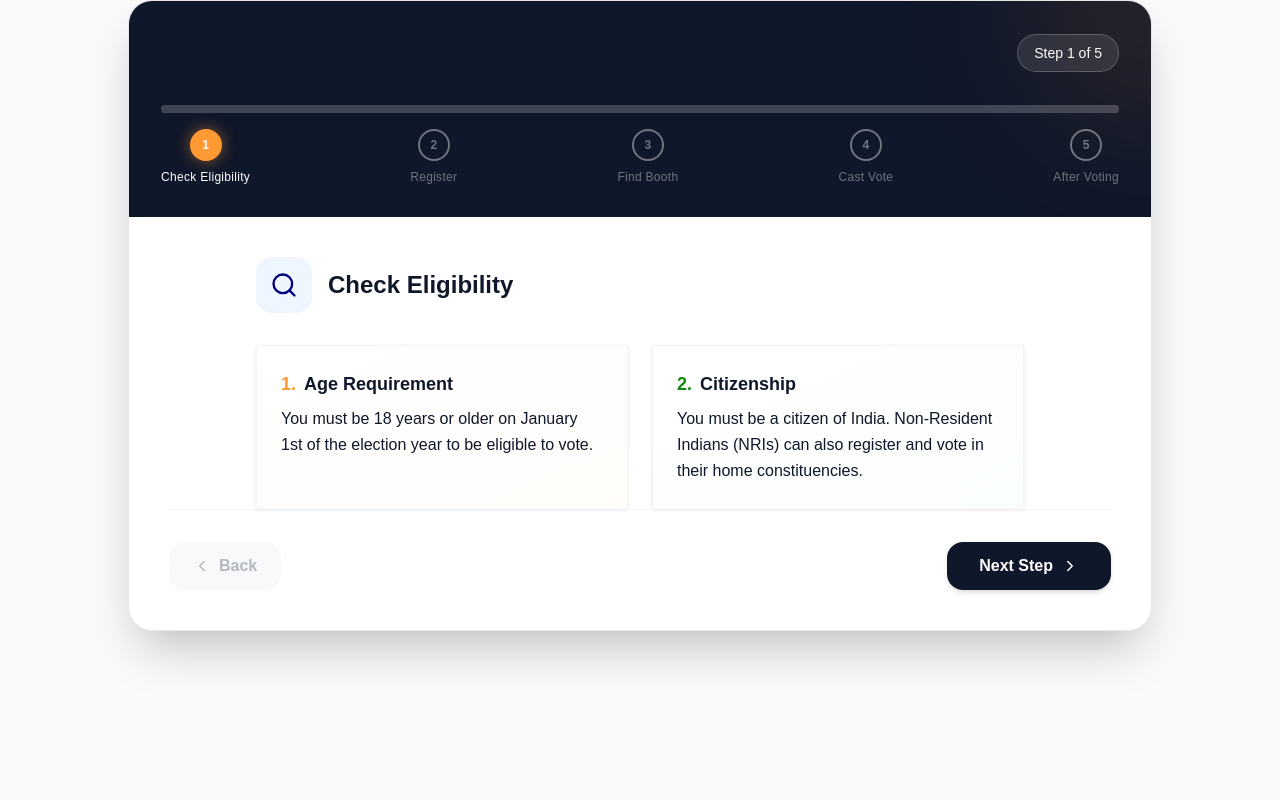
Simulator component › goes back to previous step when 'Previous' is clicked
The image size is (1280, 800).
Step 1. Click the button "Next Step" → (1029, 566), box [947, 542, 1111, 590]
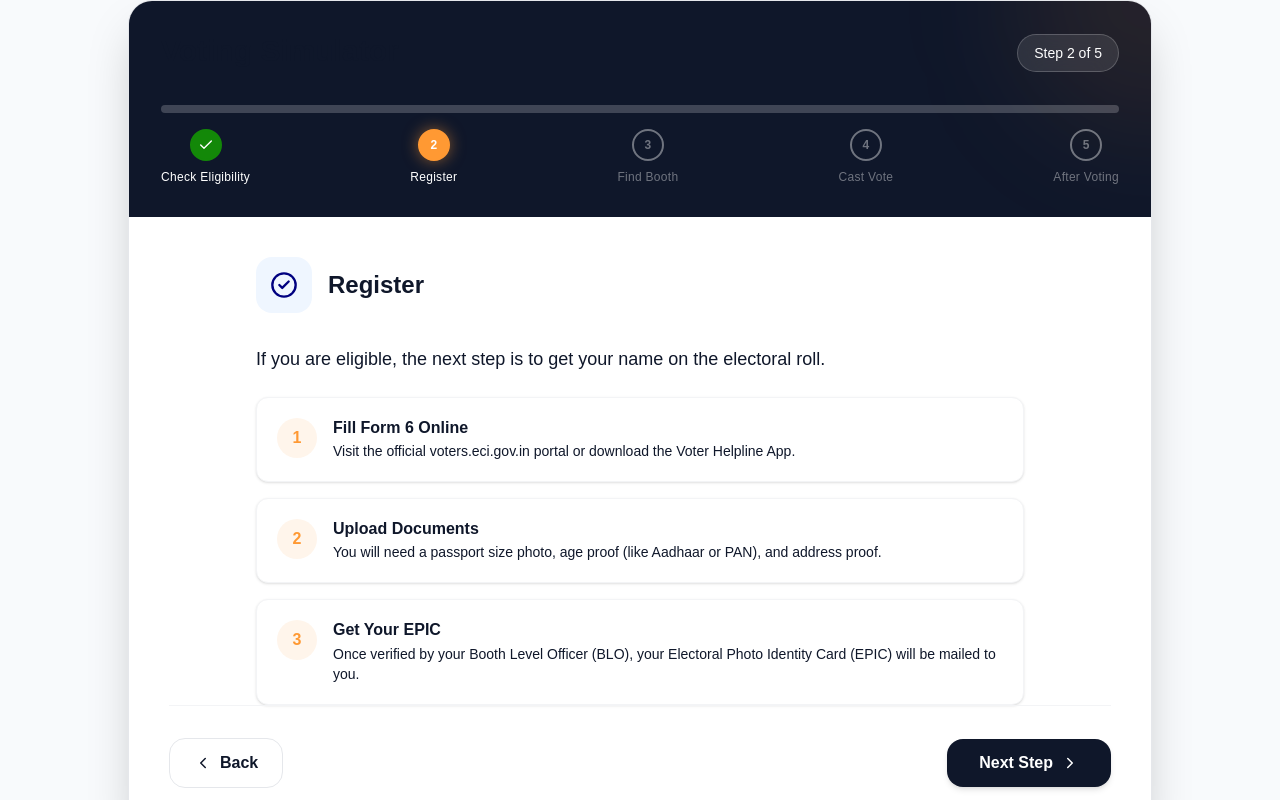
expect the heading "Register" is shown: met, box [328, 269, 424, 301]
Step 2. Click the button "Back" → (226, 763), box [169, 738, 283, 788]
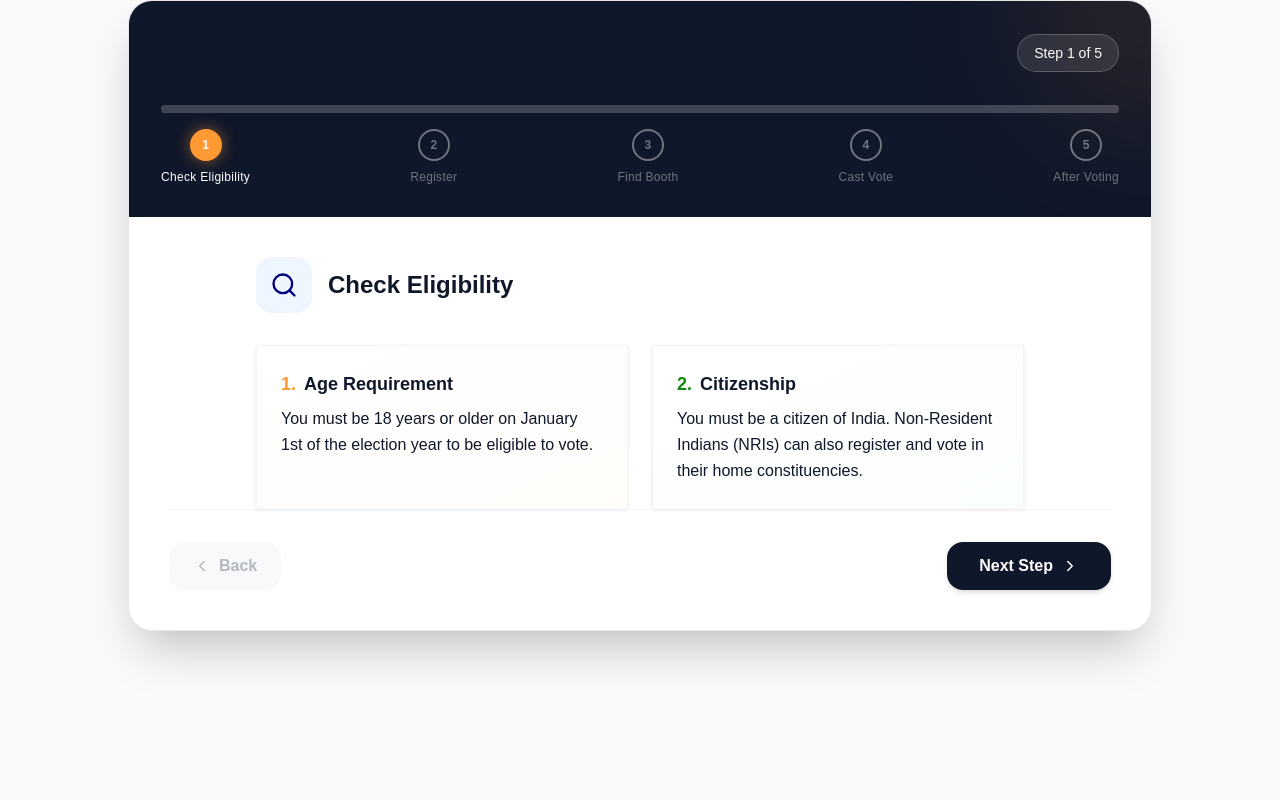
expect the heading "Check Eligibility" is shown: met, box [328, 269, 513, 301]
